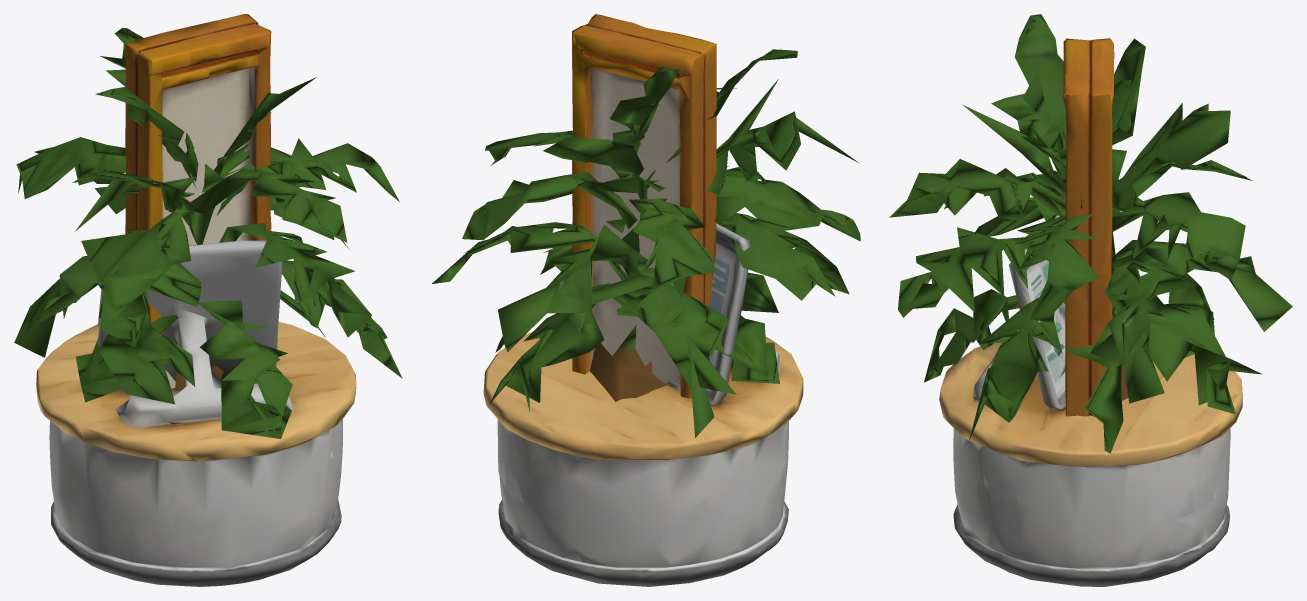
File: entrance.glb
The picture shows the model from 3 angles, left to right: view 1: azimuth 30°, elevation 25°; view 2: azimuth 150°, elevation 25°; view 3: azimuth 270°, elevation 25°; orthographic projection. The views are drawn at different scales.
Parts seen in each view (by area): view 1: tripo_node_92a0f4dd-ac6d-4d37-b731-b3e9c668487e, tripo_node_f85890db-4b5f-4571-87a8-2aa2afb8fddc, tripo_node_2af2a081-f786-4227-bf14-4d6560cf09de; view 2: tripo_node_92a0f4dd-ac6d-4d37-b731-b3e9c668487e, tripo_node_f85890db-4b5f-4571-87a8-2aa2afb8fddc, tripo_node_2af2a081-f786-4227-bf14-4d6560cf09de; view 3: tripo_node_f85890db-4b5f-4571-87a8-2aa2afb8fddc, tripo_node_92a0f4dd-ac6d-4d37-b731-b3e9c668487e, tripo_node_2af2a081-f786-4227-bf14-4d6560cf09de.
Part boxes in pixels (box(x1,y1,x2,y2)): tripo_node_92a0f4dd-ac6d-4d37-b731-b3e9c668487e: box(36, 240, 356, 586); tripo_node_f85890db-4b5f-4571-87a8-2aa2afb8fddc: box(14, 27, 402, 438); tripo_node_2af2a081-f786-4227-bf14-4d6560cf09de: box(125, 14, 271, 388); tripo_node_92a0f4dd-ac6d-4d37-b731-b3e9c668487e: box(483, 223, 803, 586); tripo_node_f85890db-4b5f-4571-87a8-2aa2afb8fddc: box(432, 49, 860, 437); tripo_node_2af2a081-f786-4227-bf14-4d6560cf09de: box(572, 14, 716, 398); tripo_node_f85890db-4b5f-4571-87a8-2aa2afb8fddc: box(889, 14, 1292, 453); tripo_node_92a0f4dd-ac6d-4d37-b731-b3e9c668487e: box(939, 215, 1242, 586); tripo_node_2af2a081-f786-4227-bf14-4d6560cf09de: box(1063, 38, 1114, 416).
Bounding box in the file's own units: 1.7 × 2.3 × 1.79.
Materials: 3 (3 with a texture image).
